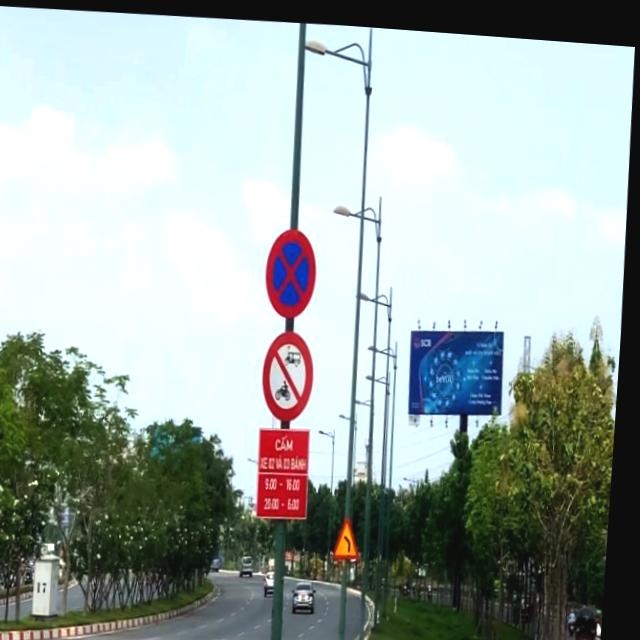Cam dung xe va do xe: (266, 221, 323, 316)
cho ngoat nguy hiem vong ben trai: (339, 509, 369, 554)
